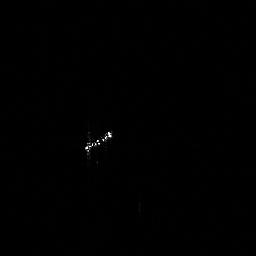ship: (80, 126, 117, 159)
